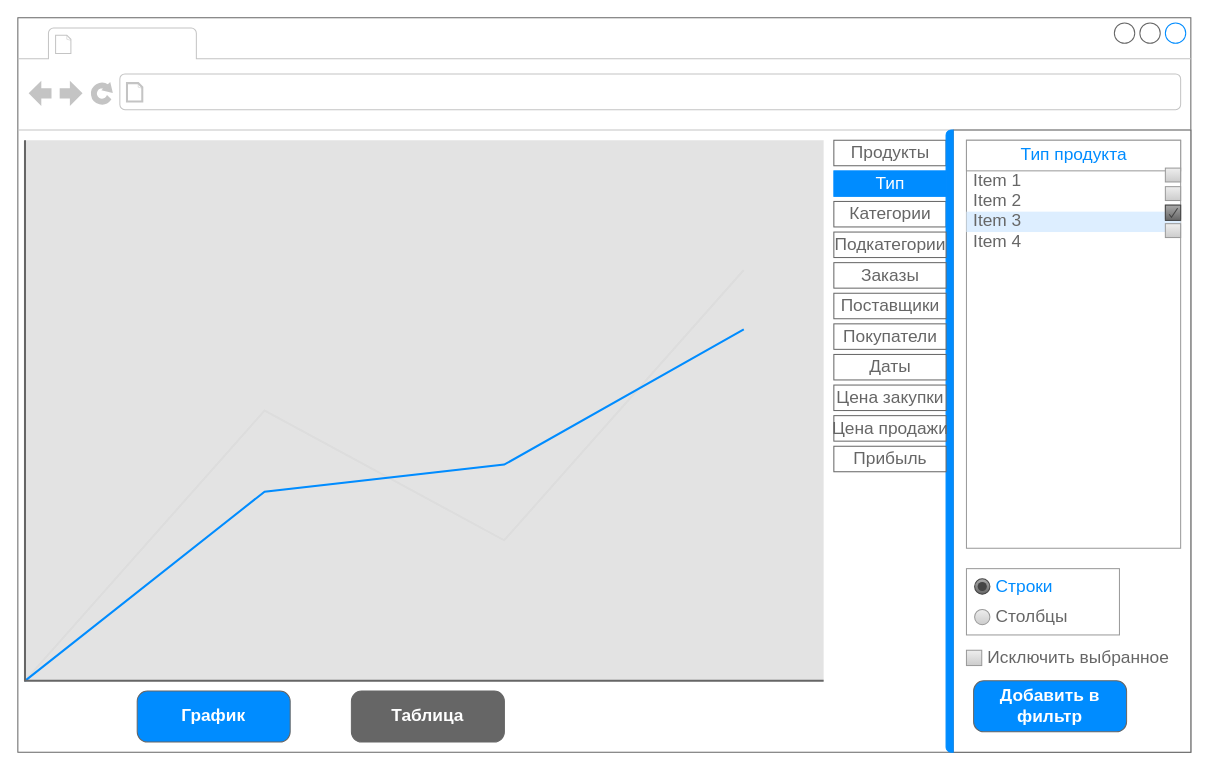
This 1209x770 diagram has some shape labels left out. The shapes that lost their labels are listed below. From the top down, each one's box as (x1, y1, x2, y2) in pixels, then its label:
(78, 29, 191, 57): Application
(149, 78, 405, 106): https://www.someshop.ru/apps
